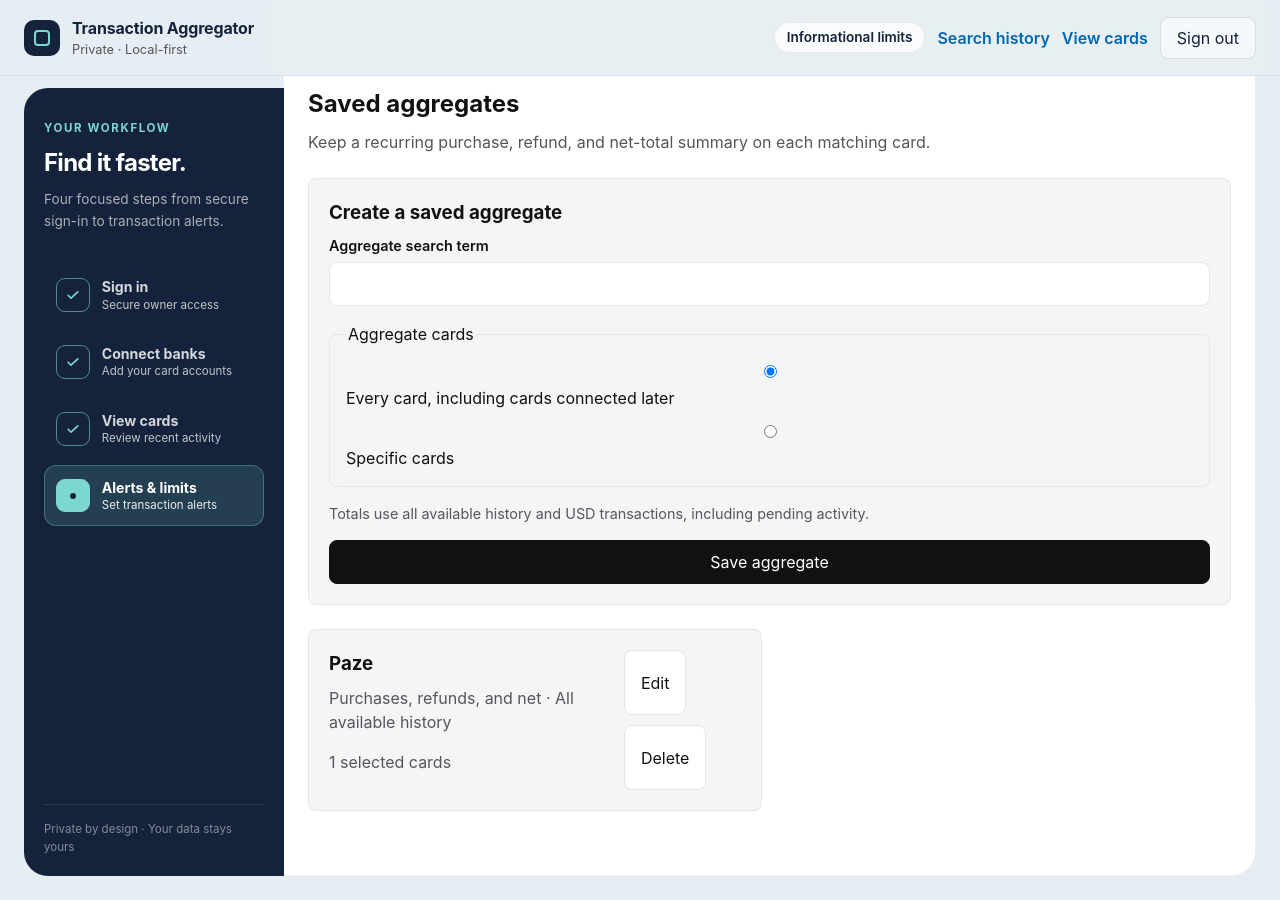
saved aggregate management › confirms and deletes an aggregate
This screenshot has width=1280, height=900.
(page scrolled)
Click the button with aria-label "Delete Paze": (665, 758) [624,726,706,790]
(page scrolled)
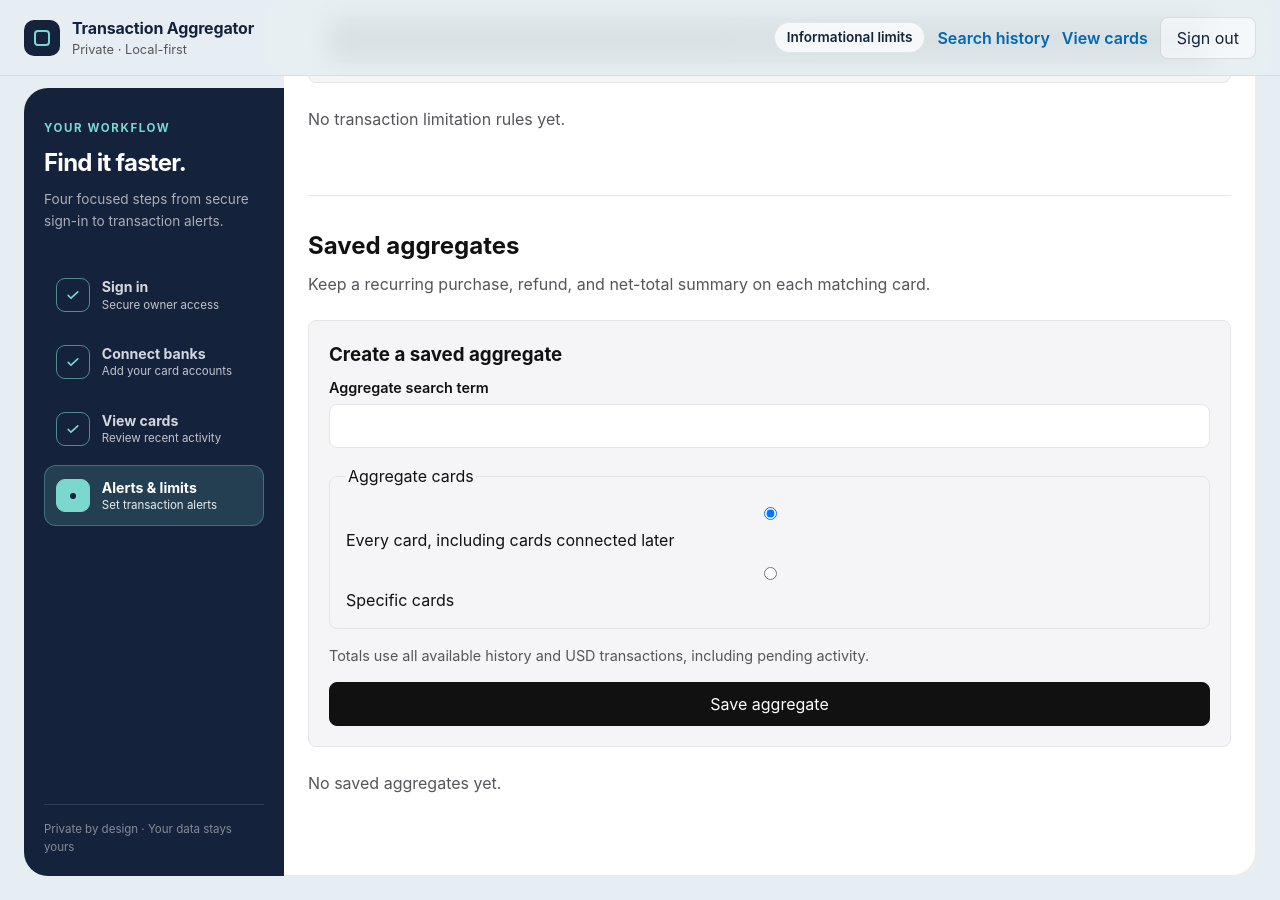
expect the text "No saved aggregates yet." is shown: met, box [308,773,501,793]
